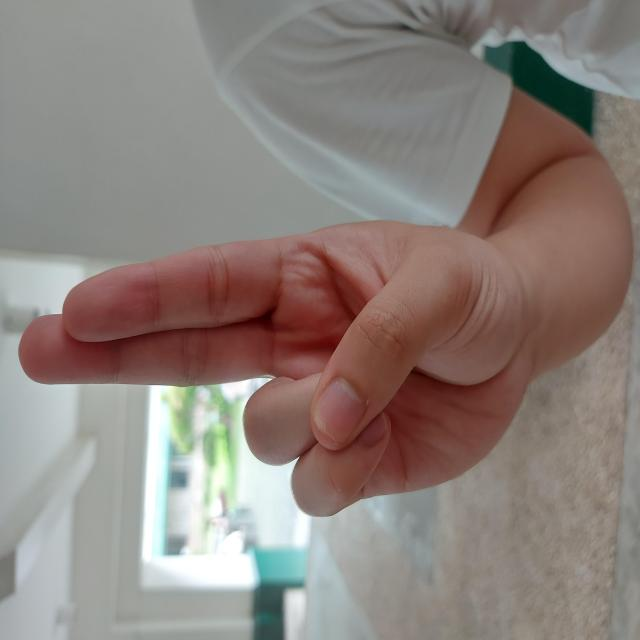U: (120, 14, 421, 525)
